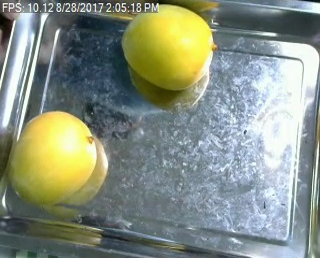Mango: (6, 105, 104, 205), (114, 6, 220, 93)
